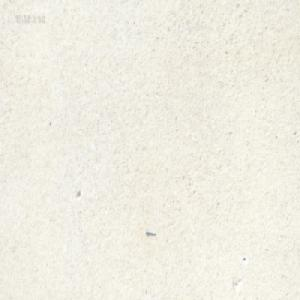Nail: (145, 229, 156, 237)
